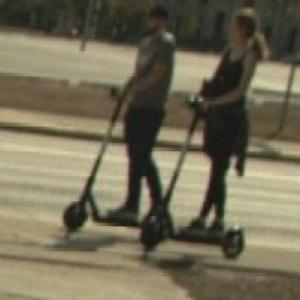with scooter: (142, 8, 258, 258), (62, 7, 176, 233)
